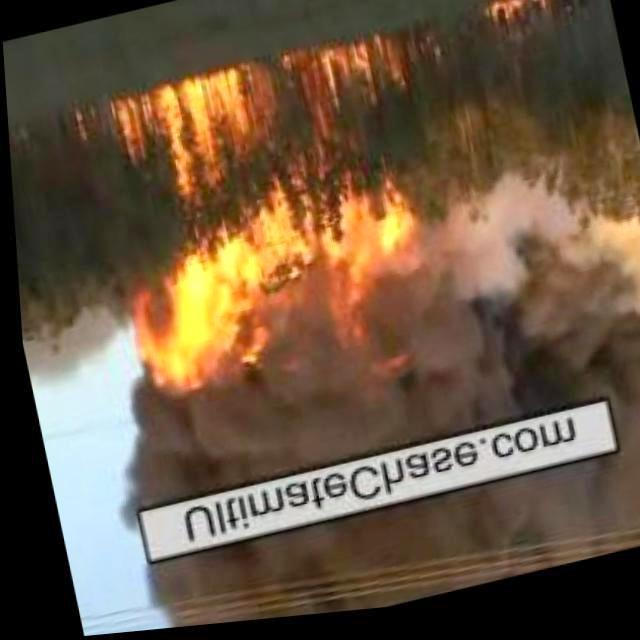fire: (91, 26, 461, 420), (487, 0, 561, 40)
